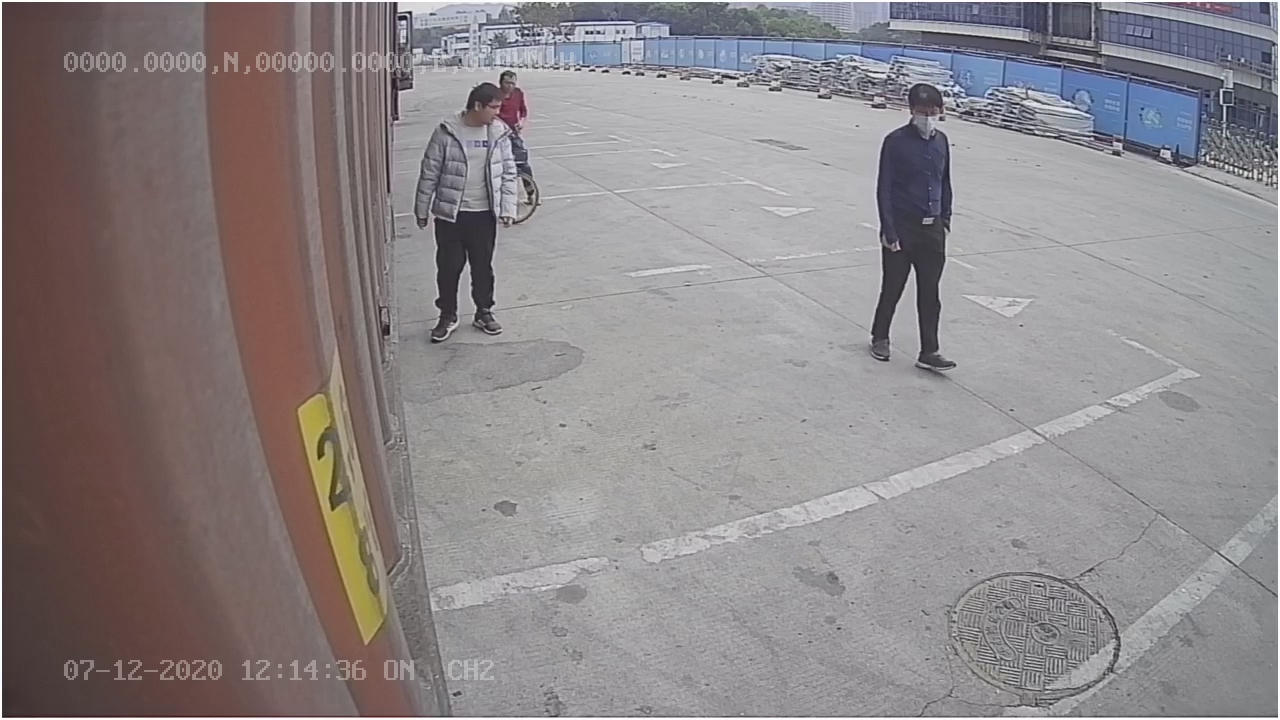person: (869, 82, 962, 373)
